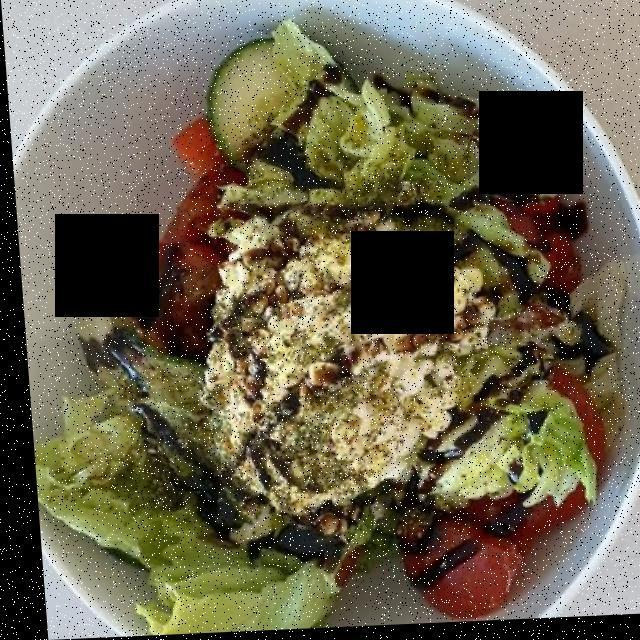balsamic-vinegar: (130, 412, 407, 564)
cheese: (212, 229, 445, 538)
cucumber: (207, 45, 289, 162)
tomato: (112, 132, 607, 619)
